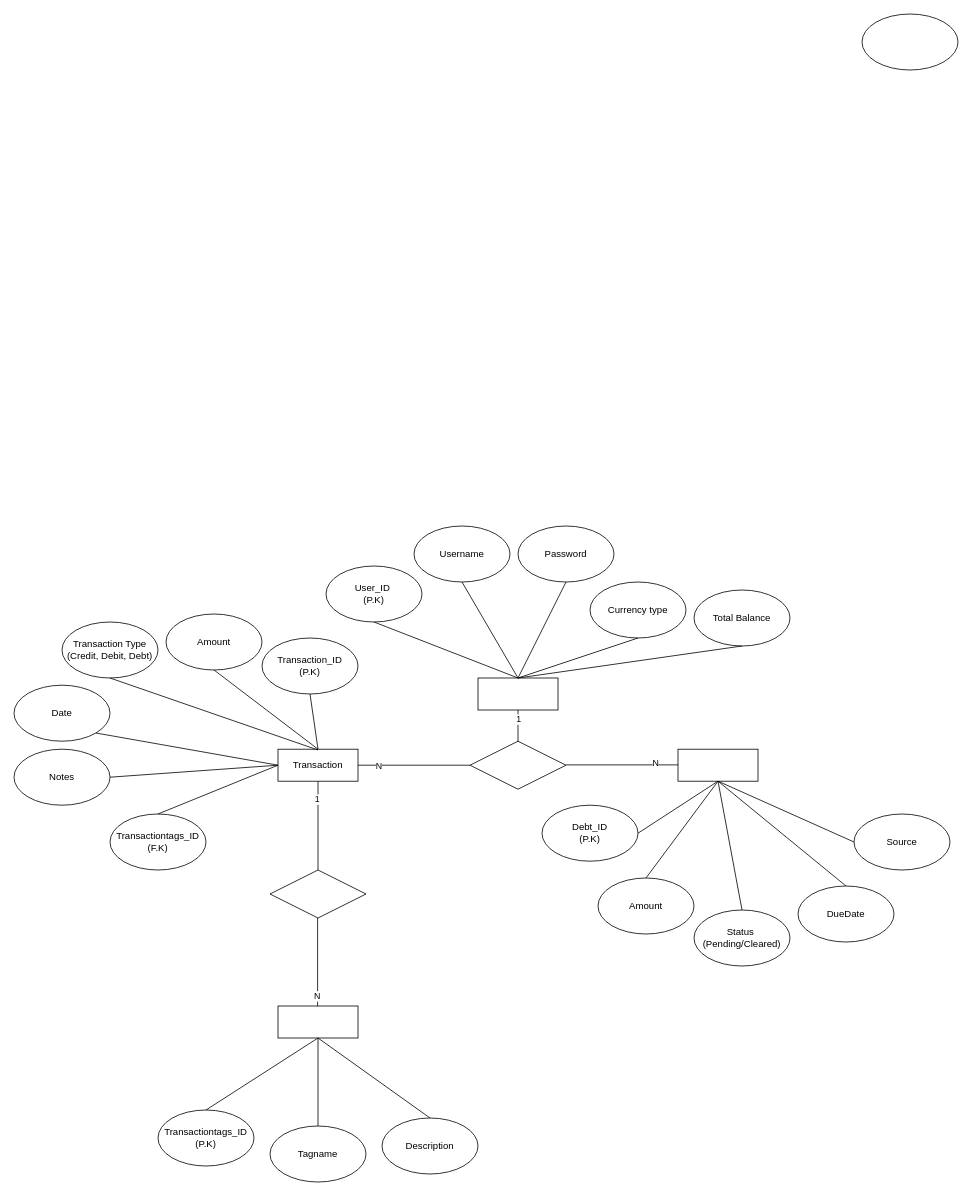
Some shapes in this 972 by 1196 pixel diagram are drawn without their labels. Each missing label, with the centre of its shape:
"Debt" goes at [717,764].
"has" goes at [517,764].
"tagged with" goes at [317,893].
"Transaction Tag" goes at [317,1021].
"User" goes at [517,693].
"User_ID (F.K)" goes at [909,41].
